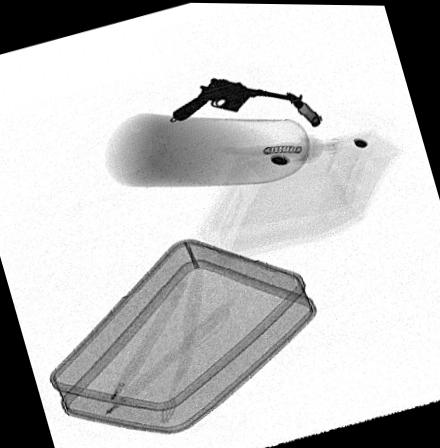Bullet: (287, 90, 322, 125)
Gun: (171, 75, 303, 120)
